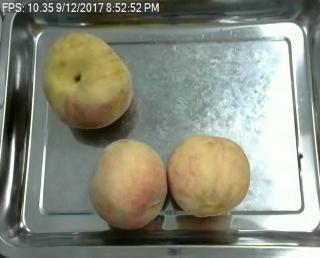Peach: (41, 29, 132, 131), (89, 138, 167, 231), (168, 134, 250, 216)
